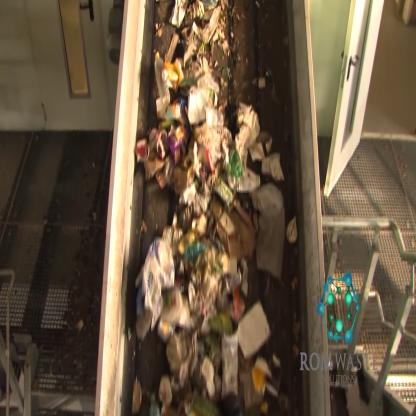Glass Bottle: (153, 52, 171, 107), (230, 146, 242, 178)
